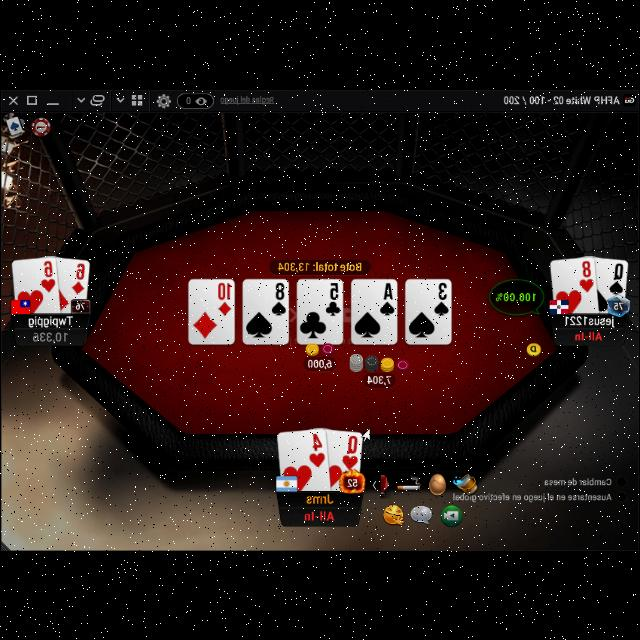3s: (434, 280, 450, 316)
4h: (308, 431, 326, 469)
4s: (377, 280, 397, 316)
5c: (324, 278, 341, 316)
6d: (68, 260, 88, 294)
6h: (39, 256, 57, 292)
8h: (578, 256, 594, 292)
8s: (270, 278, 288, 316)
As: (377, 279, 397, 315), (378, 279, 397, 315)
Qh: (340, 432, 360, 470)
Qs: (607, 259, 625, 295)
Td: (215, 278, 232, 316)
all_in_symbol: (302, 505, 336, 521), (574, 327, 602, 339)
bet_text: (306, 354, 334, 368), (366, 372, 392, 384)
dealer: (526, 338, 542, 356), (380, 354, 394, 370), (395, 356, 409, 368)
pot_text: (276, 258, 362, 270)
stack_text: (32, 329, 68, 343)
